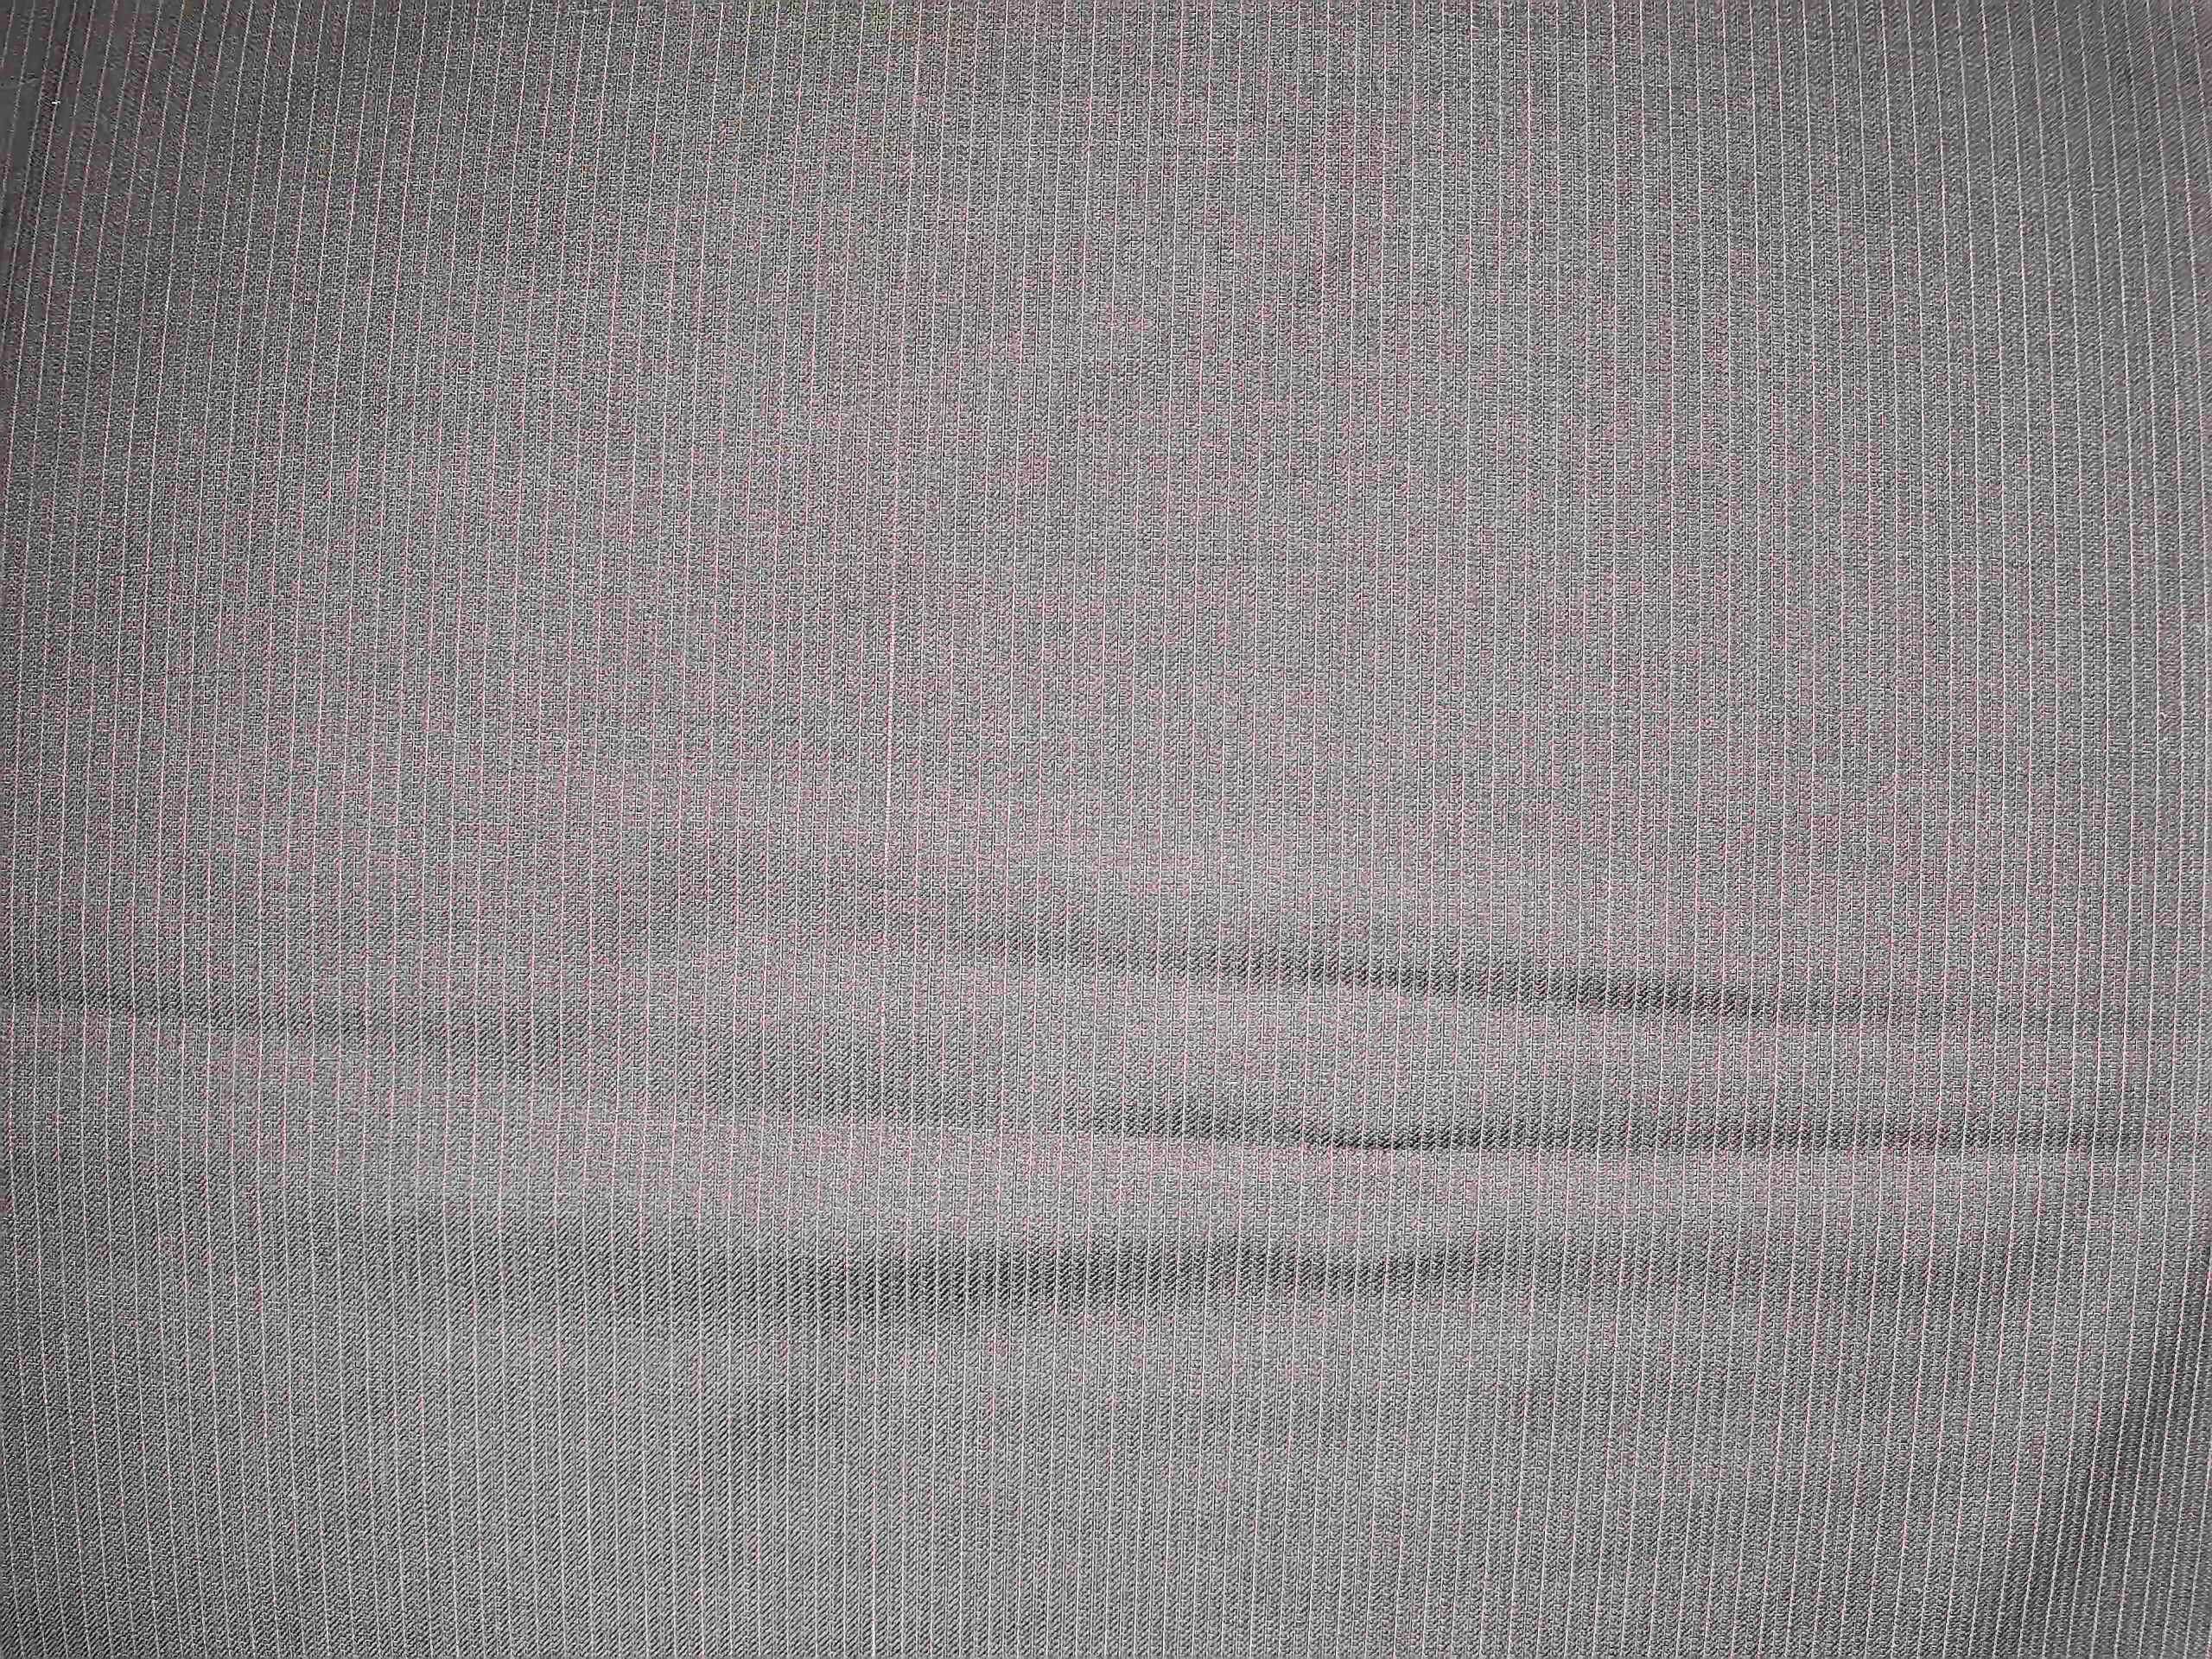others: (867, 352, 907, 1638)
